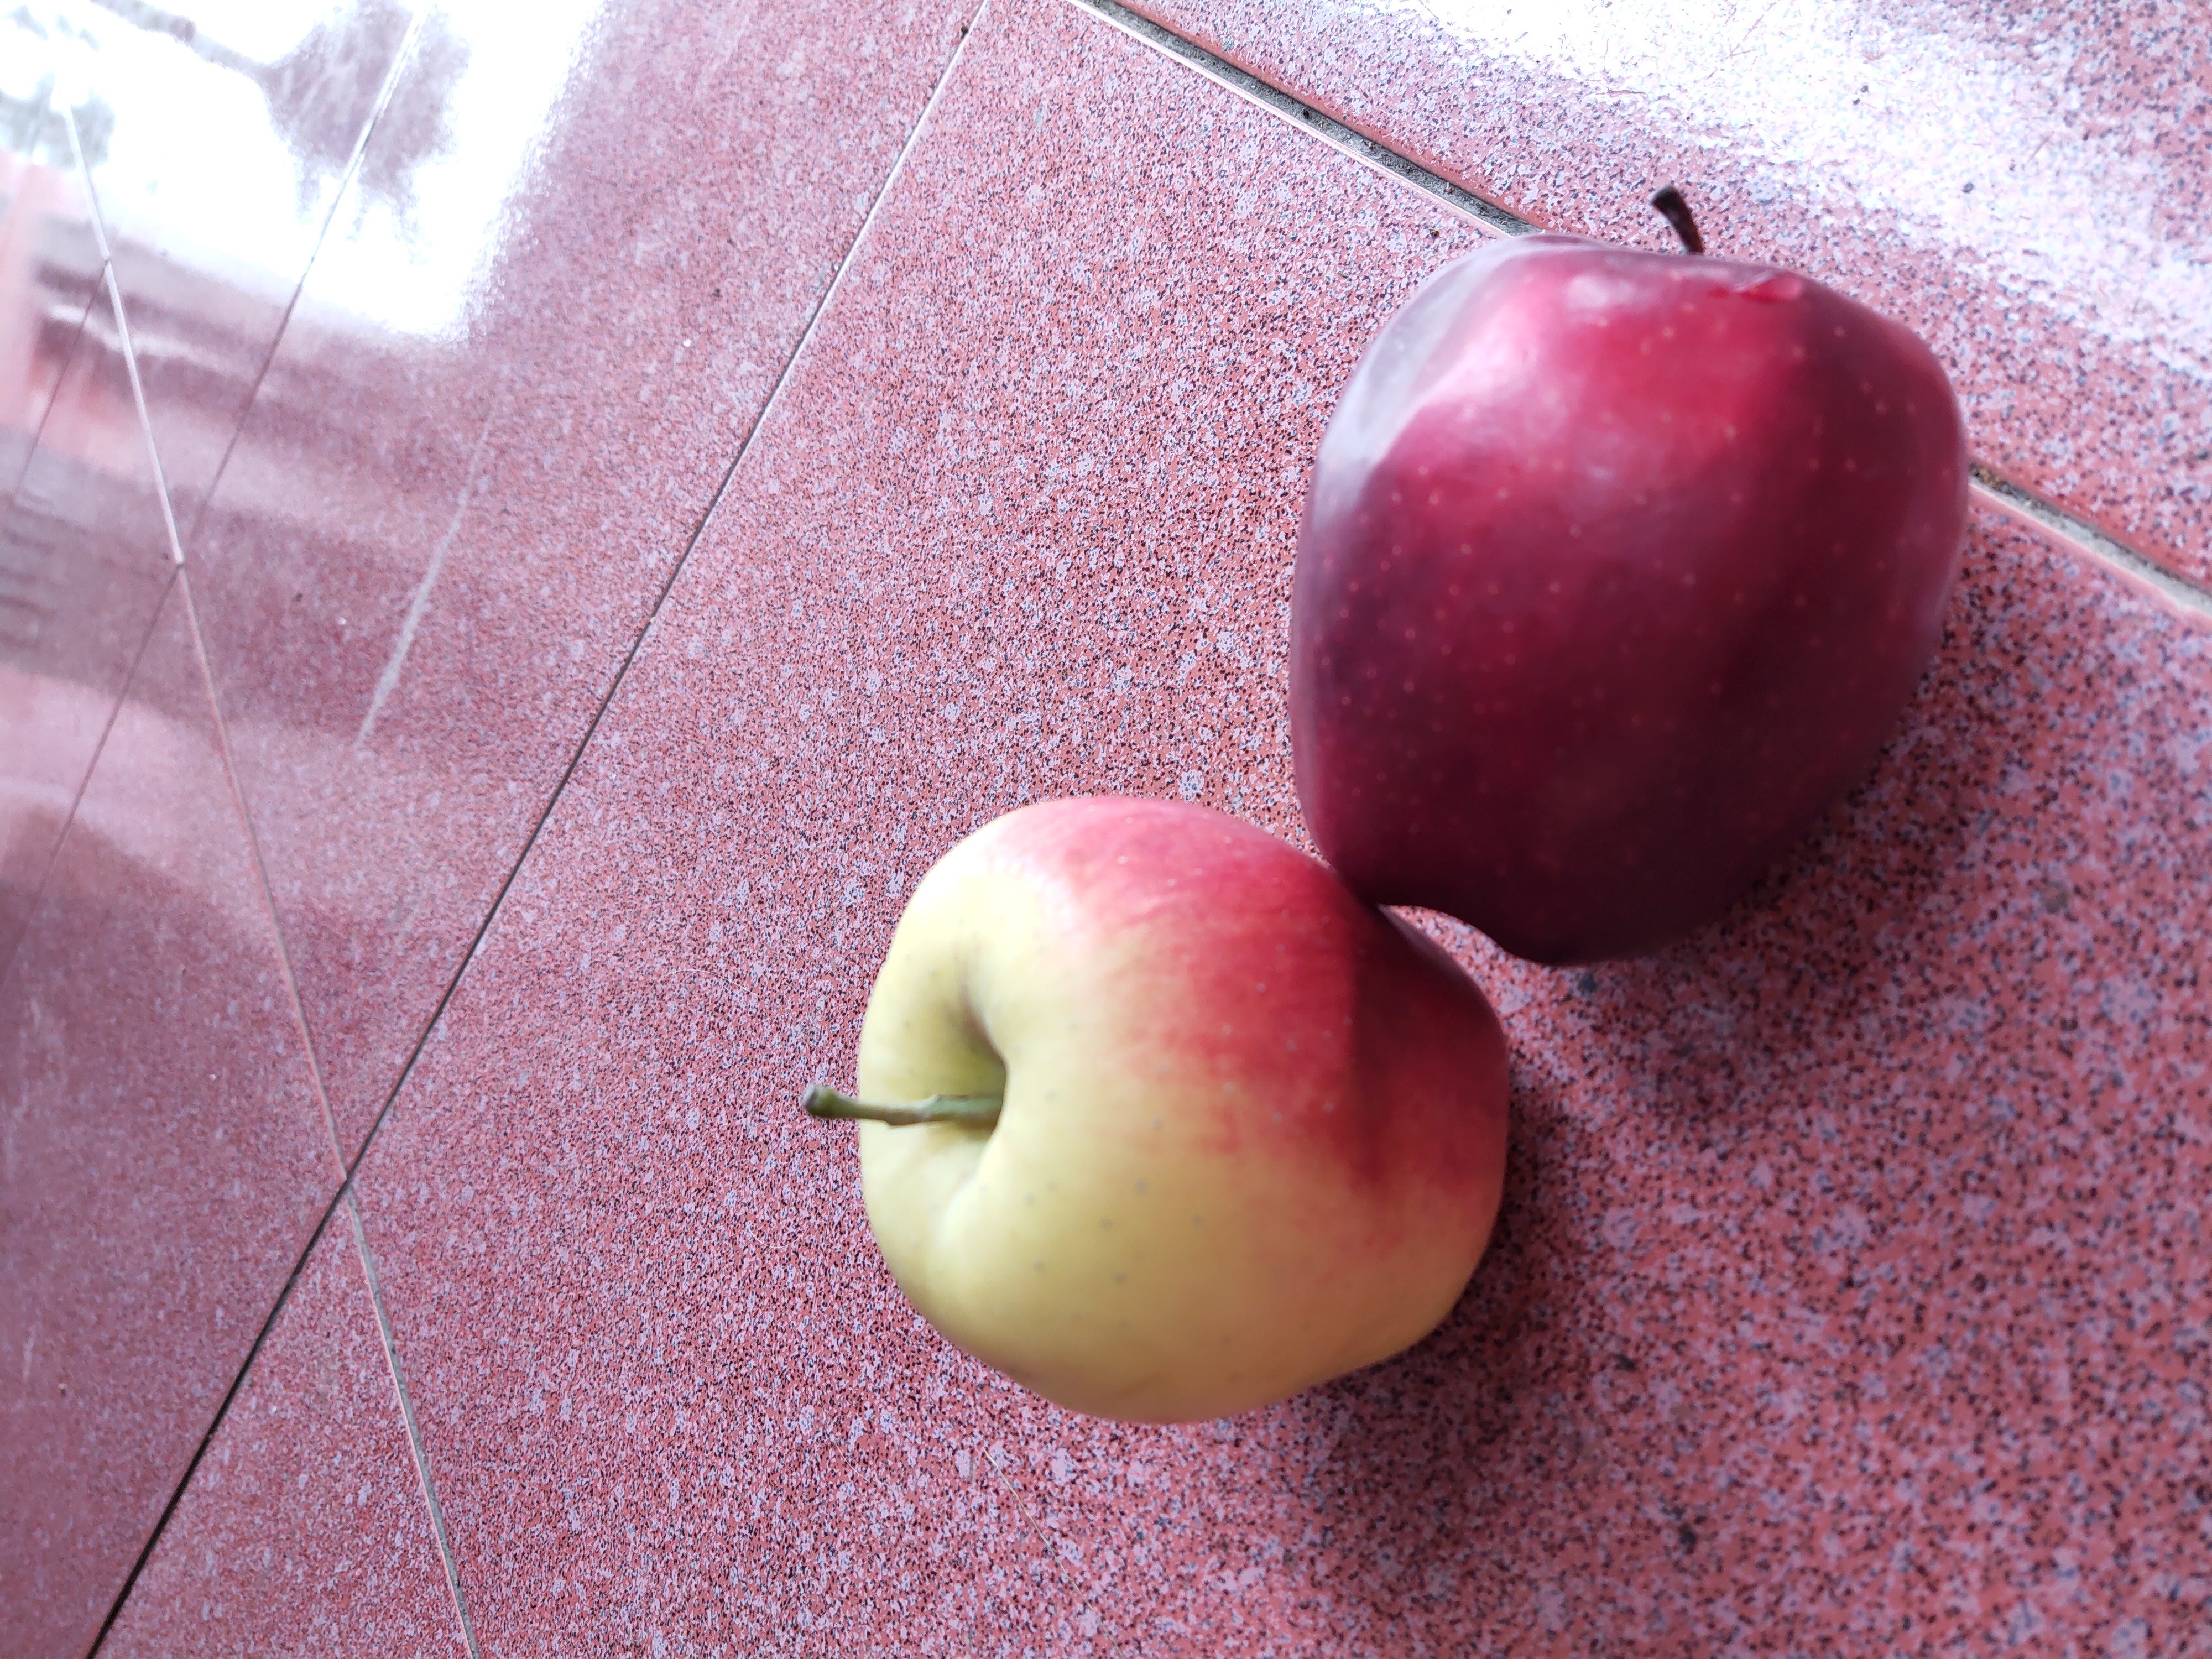apple: (1280, 185, 1982, 985), (791, 793, 1526, 1436)
